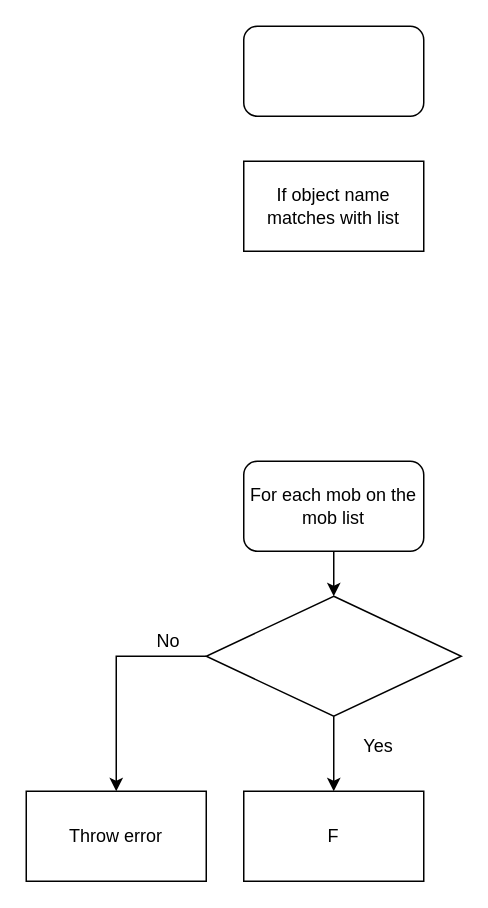
Some shapes in this 488 by 908 pixel diagram are drawn without their labels. Here are the shapes that lost their labels. From the top down, the centre of each, then its label:
At point 333,70: "User makes list of object names".
At point 333,655: "Are all the properties correct?".
